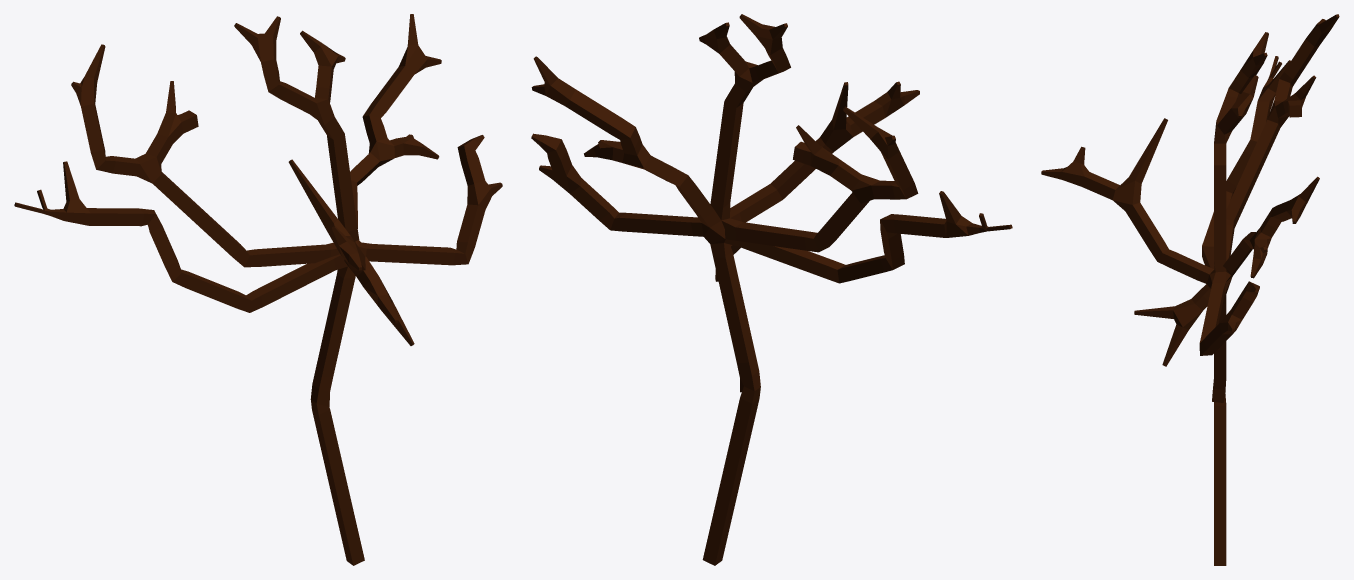
Rendered from Tree2.fbx.
The picture shows the model from 3 angles, left to right: view 1: azimuth 30°, elevation 25°; view 2: azimuth 150°, elevation 25°; view 3: azimuth 270°, elevation 25°; orthographic projection. The views are drawn at different scales.
Visible parts, largest first — view 1: Vert; view 2: Vert; view 3: Vert.
Boxes of the visible parts, <box> form: Vert: <box>14,14,502,565</box>; Vert: <box>531,14,1012,565</box>; Vert: <box>1041,14,1339,565</box>.
Size of the model in its own units: 878 by 982 by 539.
